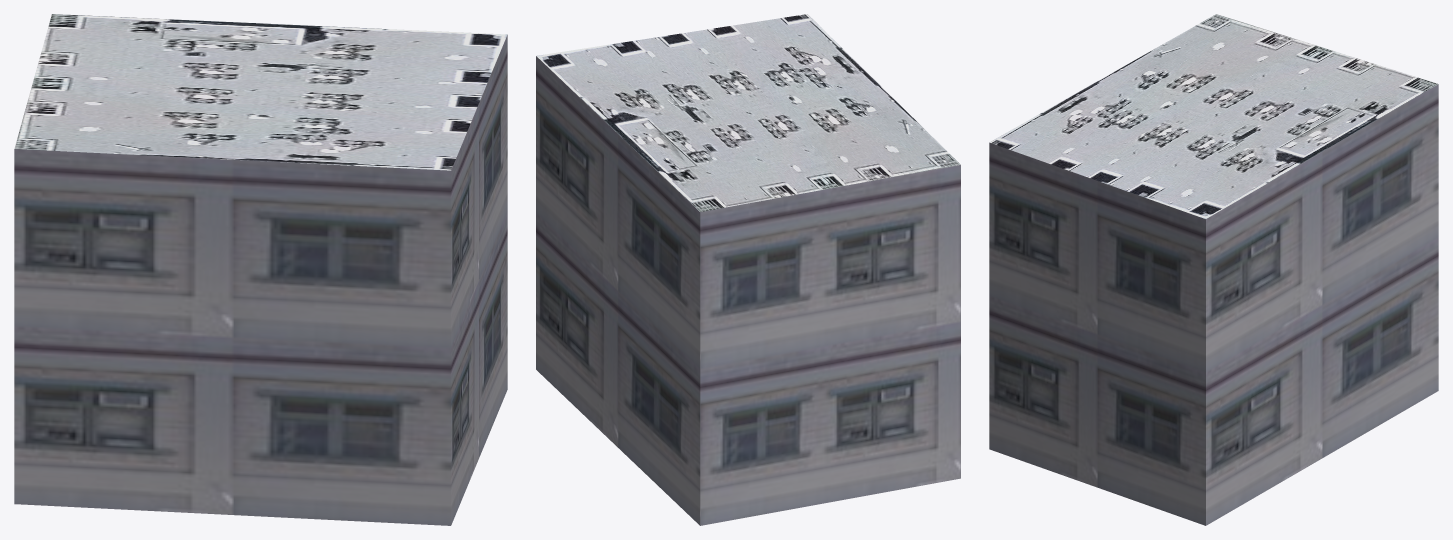
File: ResTex__337.fbx
The picture shows the model from 3 angles, left to right: view 1: azimuth 30°, elevation 25°; view 2: azimuth 150°, elevation 25°; view 3: azimuth 270°, elevation 25°; orthographic projection. The views are drawn at different scales.
Parts seen in each view (by area): view 1: CityEngineMaterial_1_m, CityEngineMaterial_m; view 2: CityEngineMaterial_1_m, CityEngineMaterial_m; view 3: CityEngineMaterial_1_m, CityEngineMaterial_m.
Boxes of the visible parts, x1,y1,x2,y2 form: CityEngineMaterial_1_m: [14, 35, 507, 525]; CityEngineMaterial_m: [14, 14, 507, 170]; CityEngineMaterial_1_m: [536, 56, 960, 525]; CityEngineMaterial_m: [536, 14, 960, 211]; CityEngineMaterial_1_m: [989, 84, 1438, 525]; CityEngineMaterial_m: [989, 14, 1438, 218].
Size of the model in its own units: 8.61 by 6 by 7.97.
2 materials, 2 textured.
